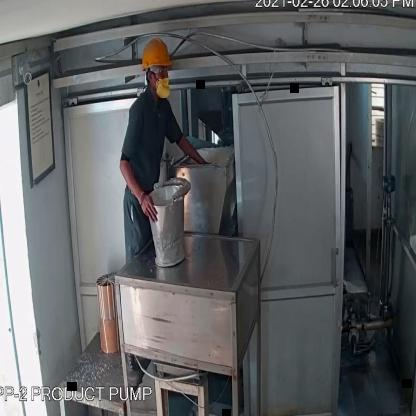helmet: (138, 37, 175, 75)
